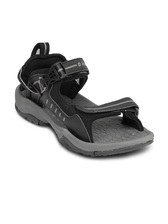shoes: (10, 38, 159, 164)
